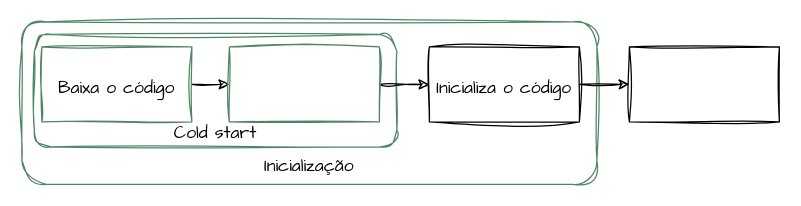
Some shapes in this 801 by 206 pixel diagram are drawn without their labels. Here are the shapes that lost their labels. From the top down, the centre of each, then its label:
the point at 303,84: Inicia o ambiente de execução
the point at 703,84: Executa a função
